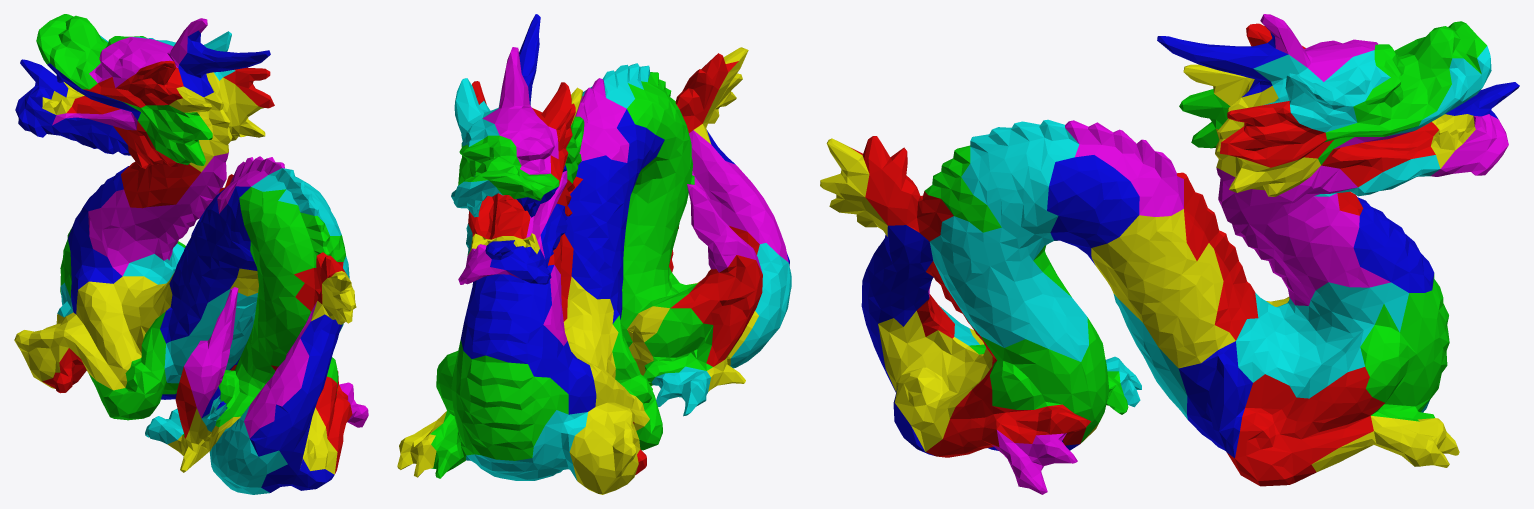
File: Dragon_8K.fbx
The picture shows the model from 3 angles, left to right: view 1: azimuth 30°, elevation 25°; view 2: azimuth 150°, elevation 25°; view 3: azimuth 270°, elevation 25°; orthographic projection. The views are drawn at different scales.
Bounding box in the file's own units: 0.4487 × 0.7037 × 0.9996.
